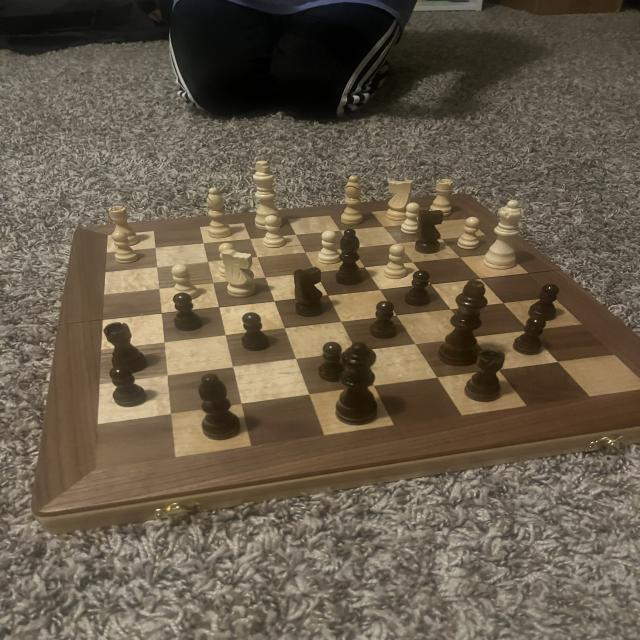bishop: (193, 370, 245, 442), (333, 227, 365, 288)
black-bishop: (438, 279, 488, 369)
black-king: (290, 266, 327, 319), (414, 208, 446, 255)
black-knight: (108, 364, 147, 408), (510, 316, 550, 356), (527, 283, 567, 323), (367, 299, 400, 341), (238, 312, 272, 352), (171, 291, 203, 333), (402, 270, 437, 308), (317, 341, 346, 384)
black-pawn: (334, 341, 380, 428)
black-queen: (459, 349, 506, 404), (103, 320, 148, 374)
black-rook: (204, 185, 235, 239), (339, 174, 370, 226)
white-bishop: (247, 159, 287, 231)
white-king: (222, 248, 259, 300), (386, 179, 415, 221)
white-knight: (170, 263, 203, 301), (380, 243, 410, 280), (110, 229, 139, 265), (315, 229, 341, 264), (262, 214, 287, 249), (217, 242, 242, 276), (458, 216, 482, 250), (401, 201, 422, 236)
white-pawn: (480, 198, 524, 272)
white-queen: (107, 205, 143, 247), (425, 178, 458, 217)
